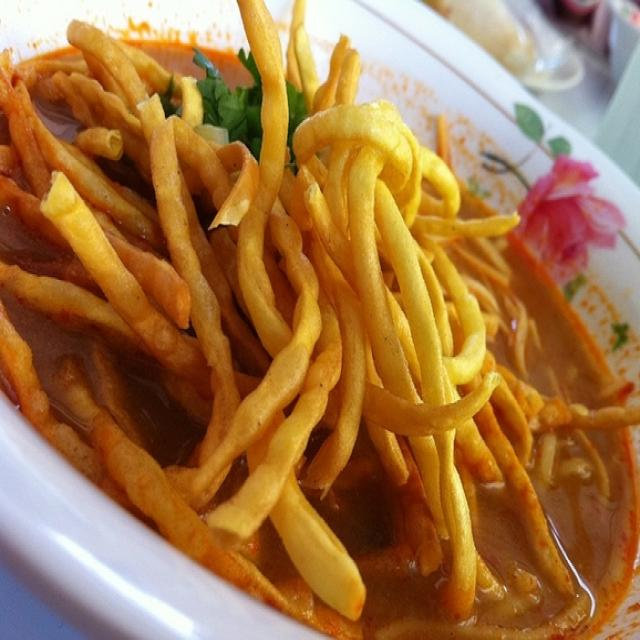面条主食: (6, 13, 634, 628)
